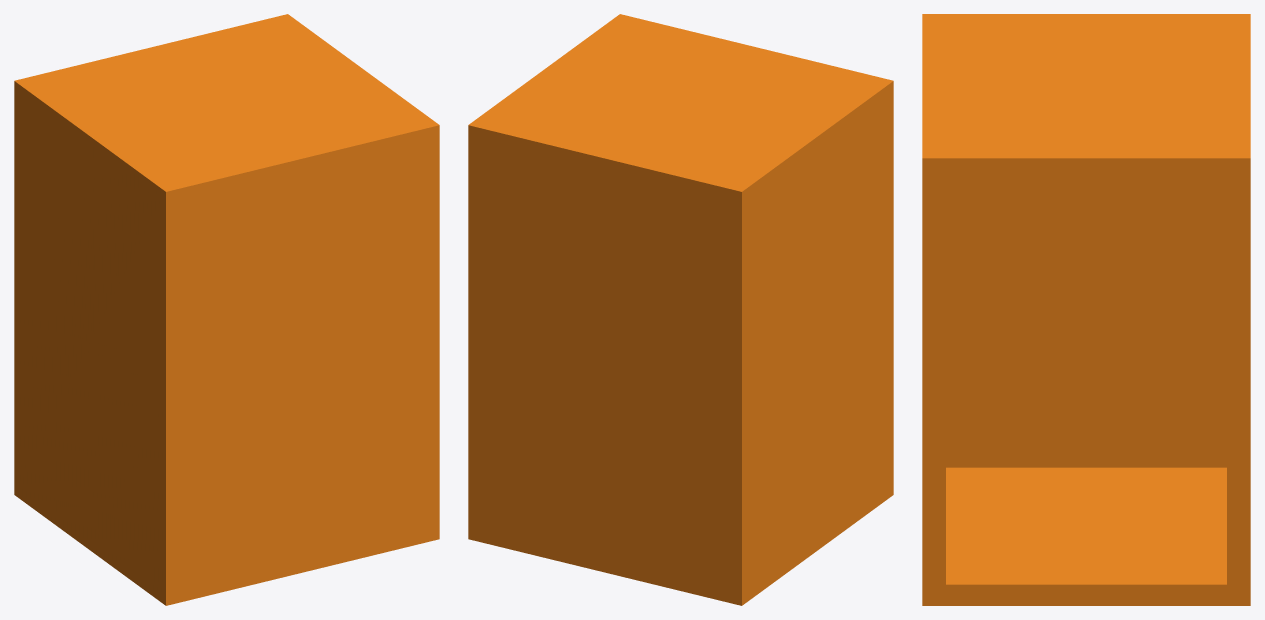
Rendered from SM_OfficeCabbinet.fbx.
3 renders of one model, left to right at view 1: azimuth 30°, elevation 25°; view 2: azimuth 150°, elevation 25°; view 3: azimuth 270°, elevation 25°, orthographic. The views are drawn at different scales.
Visible parts, largest first — view 1: SM_OfficeCabbinet; view 2: SM_OfficeCabbinet; view 3: SM_OfficeCabbinet.
Part boxes in pixels (<box>): SM_OfficeCabbinet: <box>14,14,439,605</box>; SM_OfficeCabbinet: <box>468,14,893,605</box>; SM_OfficeCabbinet: <box>922,14,1250,605</box>.
Bounding box in the file's own units: 43.19 × 62.42 × 41.5.
